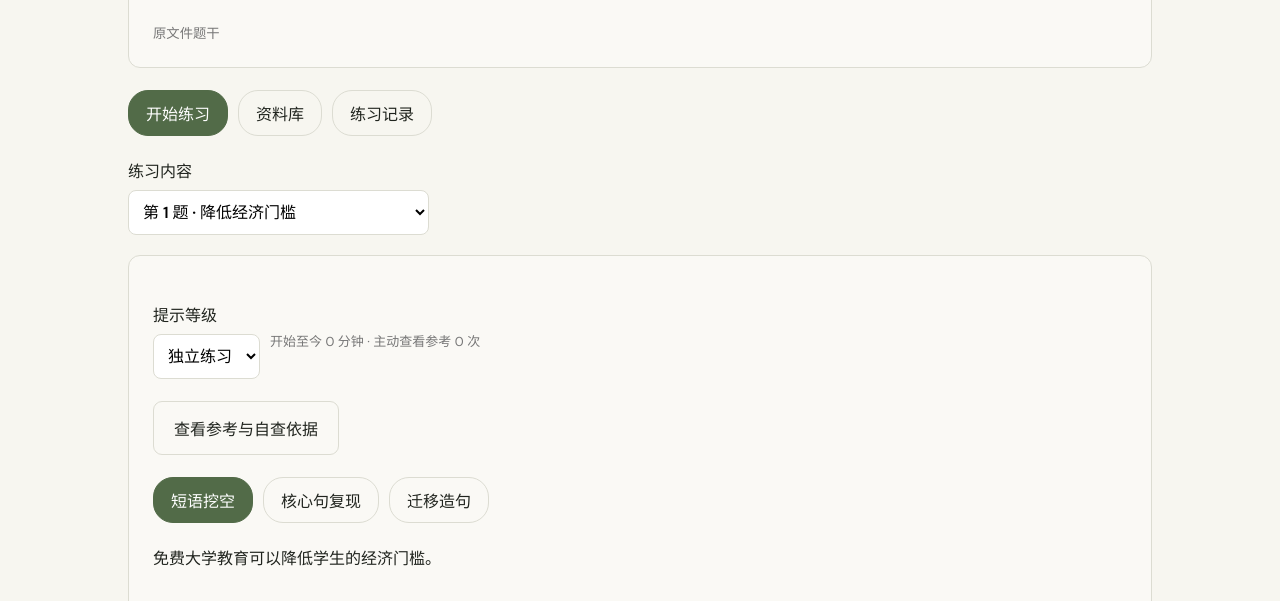
Test case: writing practice flows › hides reference answers for independent practice and grades fixed phrases
(page scrolled)
Select "独立练习" in the dropdown labelled "提示等级". click: (206, 356)
box: [153,334,260,378]
(page scrolled)
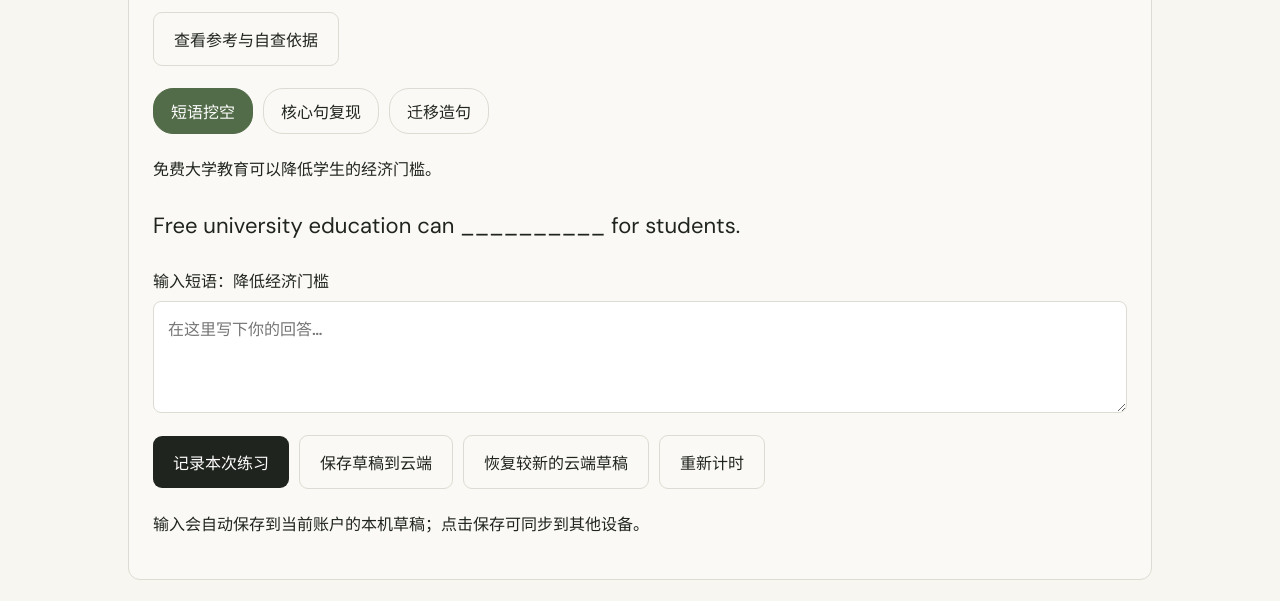
Type "reduce financial barriers" into the text box labelled "输入短语：降低经济门槛". click: (640, 357)
box: [153,301,1127,412]
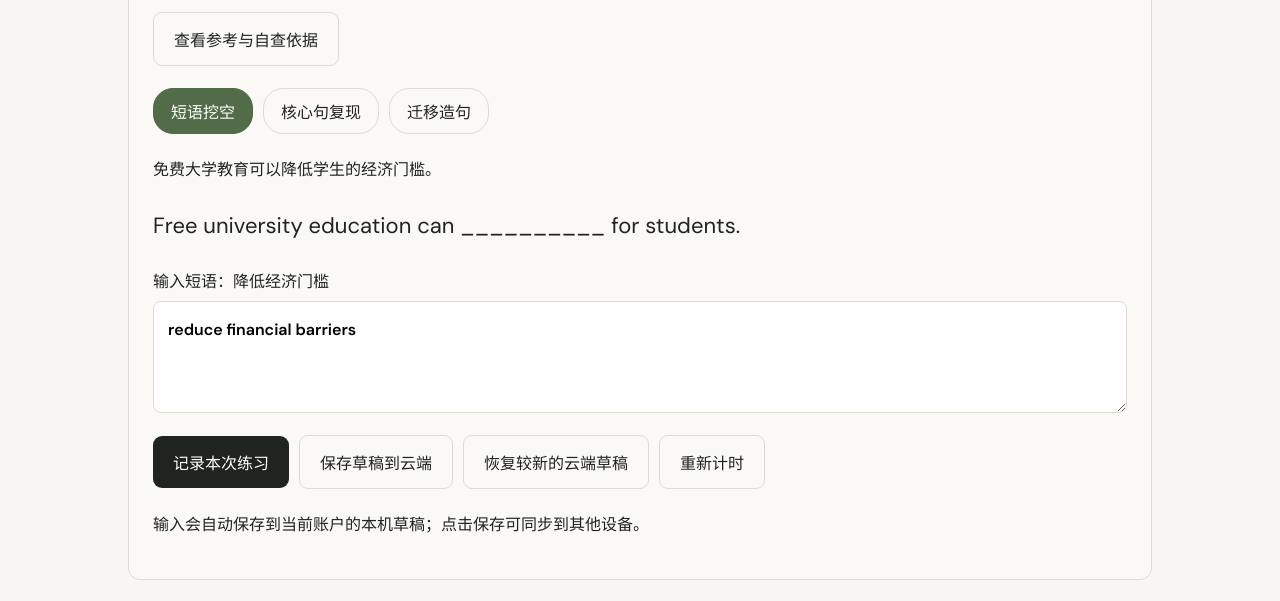
Click the button "记录本次练习". click: (221, 462)
box: [153,436,289,488]
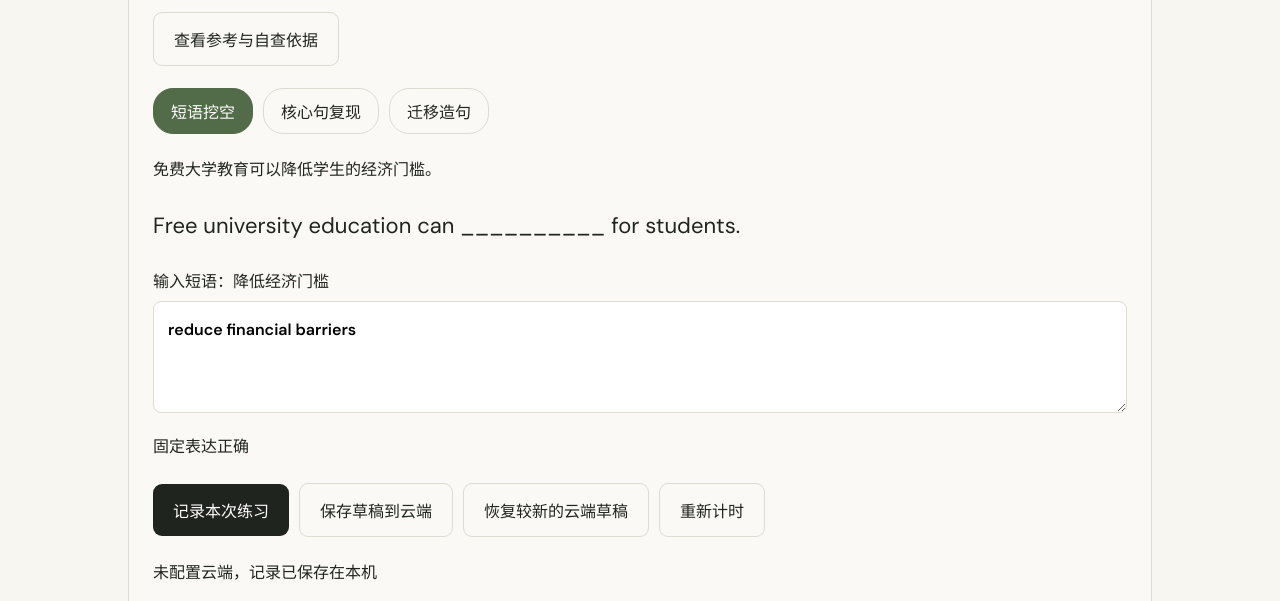
Result: the text "固定表达正确" is shown at [153,436,249,456]
